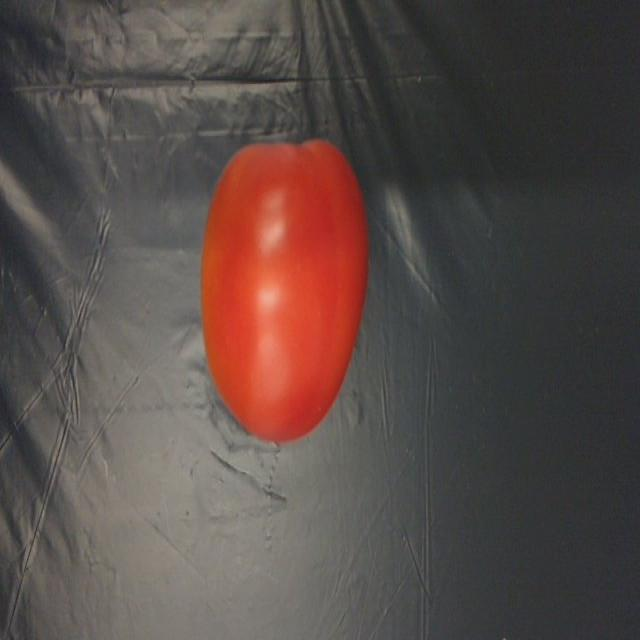kirmizi: (184, 143, 370, 442)
